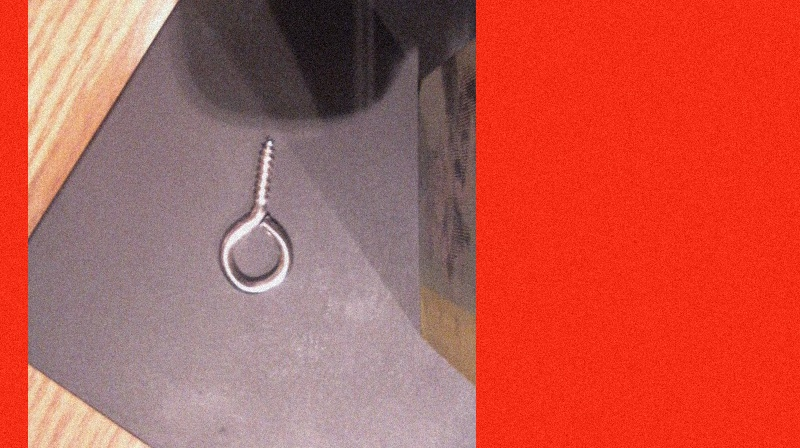O001: (212, 134, 298, 297)
